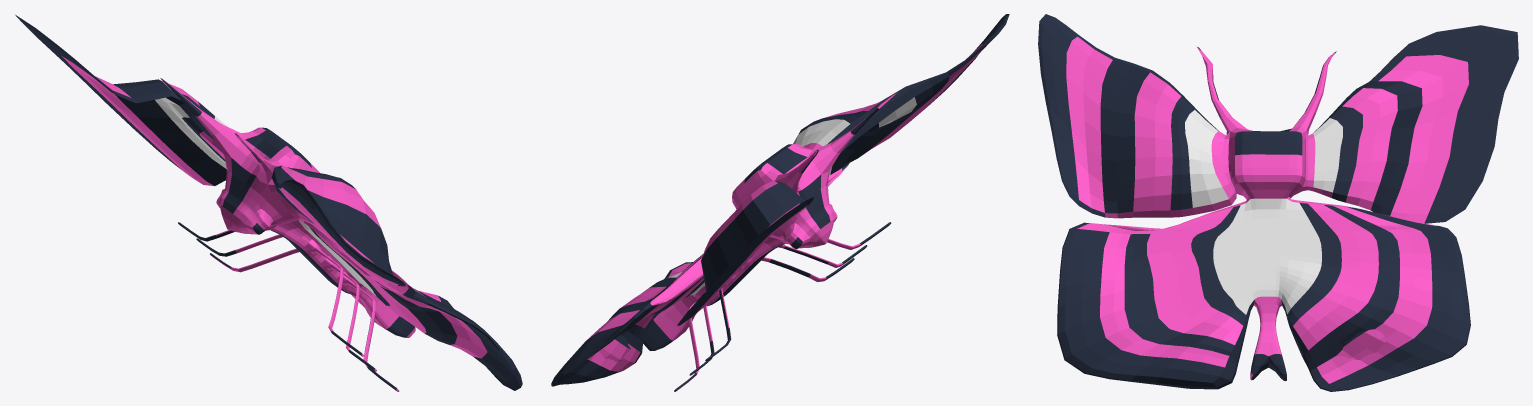
The model's file is Butterfly.fbx.
3 renders of one model, left to right at view 1: azimuth 30°, elevation 25°; view 2: azimuth 150°, elevation 25°; view 3: azimuth 270°, elevation 25°, orthographic. The views are drawn at different scales.
Parts seen in each view (by area): view 1: Cube; view 2: Cube; view 3: Cube.
Boxes of the visible parts, left/top/right/bottom form: Cube: left=15, top=15, right=522, bottom=391; Cube: left=551, top=14, right=1009, bottom=391; Cube: left=1038, top=14, right=1518, bottom=391.
Bounding box in the file's own units: 608 × 629 × 1006.
